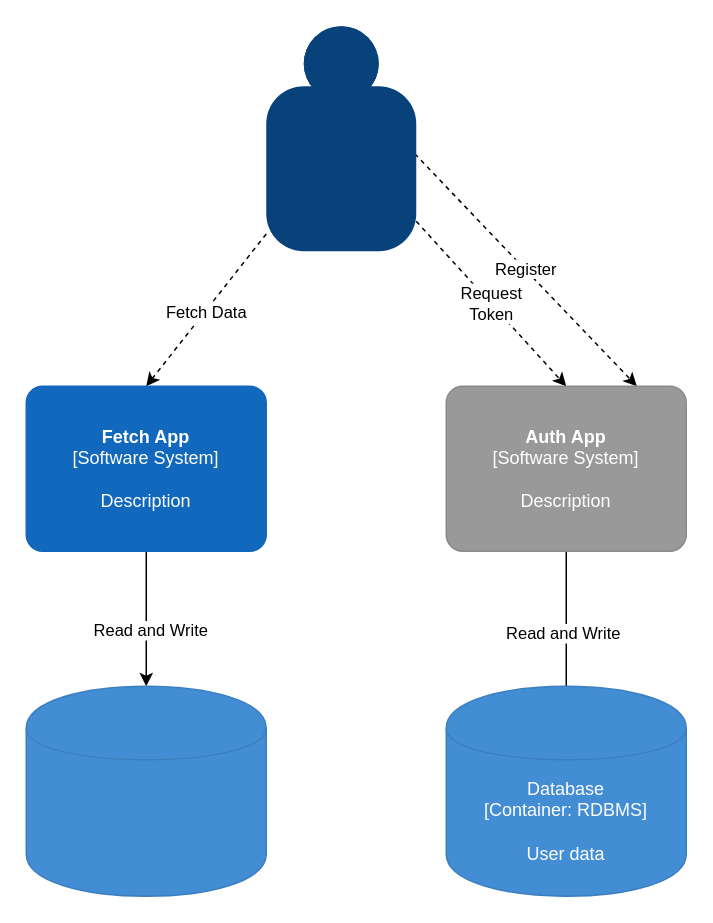
This 713x923 diagram has some shape labels left out. Each missing label, with the centre of its shape:
Database [Container: RDBMS] Fishery Data: the point at 145,790
User [Person] Description: the point at 341,138
